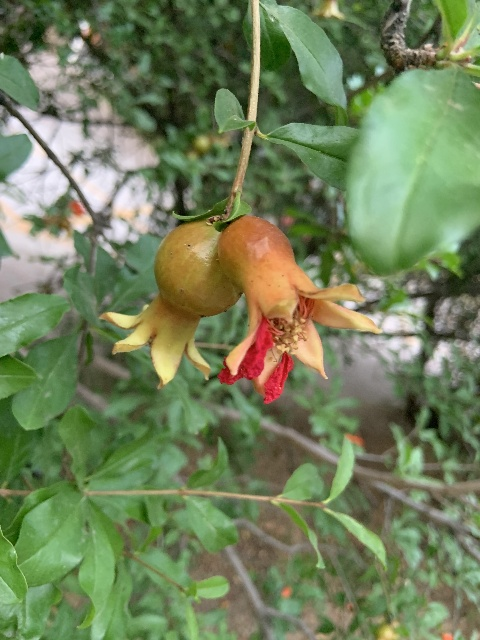early-fruit: (216, 215, 382, 403), (373, 623, 406, 640)
mid-growth: (98, 220, 240, 388), (183, 134, 213, 162)
